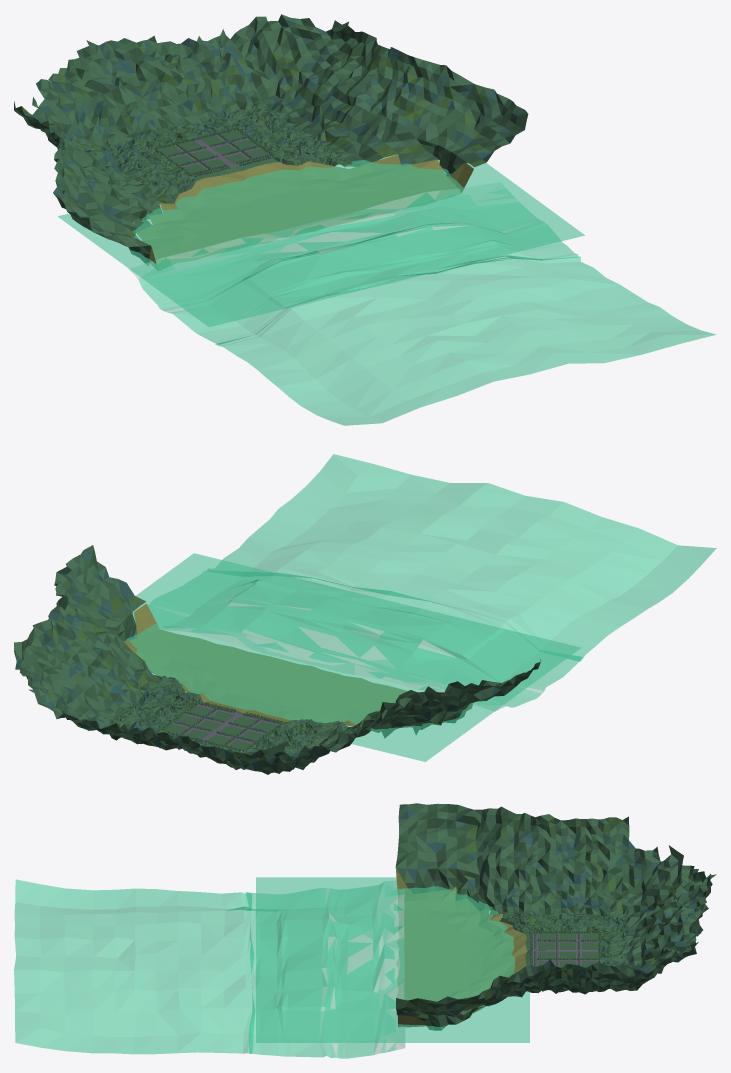
File: Map+Tsunami+Tiles.fbx
3 renders of one model, top to bottom at view 1: azimuth 30°, elevation 25°; view 2: azimuth 150°, elevation 25°; view 3: azimuth 270°, elevation 25°, orthographic. The views are drawn at different scales.
Parts seen in each view (by area): view 1: TSUNAMI, map_forest, map_sea, map_coast, map_forest.001, Tiles; view 2: TSUNAMI, map_sea, map_forest, map_coast, map_forest.001, Tiles; view 3: TSUNAMI, map_forest, map_sea, map_coast, map_forest.001, Tiles.
Part boxes in pixels (x1=…): TSUNAMI: x1=128, y1=182, x2=715, y2=425; map_forest: x1=14, y1=14, x2=528, y2=265; map_sea: x1=58, y1=154, x2=584, y2=327; map_coast: x1=133, y1=154, x2=473, y2=270; map_forest.001: x1=154, y1=127, x2=277, y2=180; Tiles: x1=158, y1=130, x2=269, y2=174; TSUNAMI: x1=133, y1=454, x2=716, y2=711; map_sea: x1=126, y1=553, x2=580, y2=761; map_forest: x1=14, y1=545, x2=540, y2=774; map_coast: x1=123, y1=603, x2=472, y2=727; map_forest.001: x1=159, y1=701, x2=286, y2=751; Tiles: x1=164, y1=705, x2=278, y2=749; TSUNAMI: x1=14, y1=879, x2=405, y2=1058; map_forest: x1=395, y1=803, x2=716, y2=1030; map_sea: x1=256, y1=877, x2=529, y2=1042; map_coast: x1=395, y1=868, x2=527, y2=1026; map_forest.001: x1=525, y1=930, x2=601, y2=967; Tiles: x1=537, y1=933, x2=598, y2=967.
Bounding box in the file's own units: 4692 × 973 × 7077.
